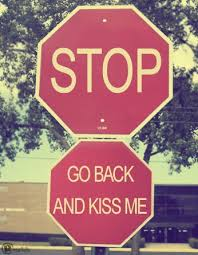stop: (34, 2, 173, 141)
